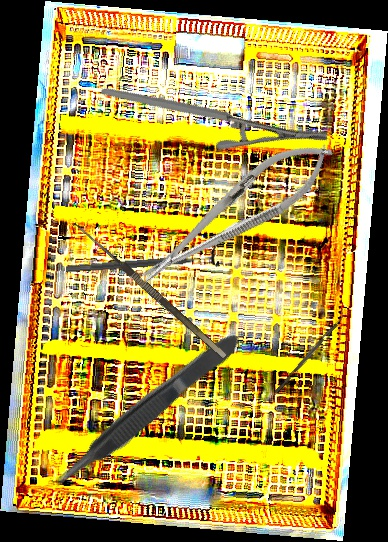Chopper: (270, 308, 349, 395)
Fixation Ring: (65, 243, 220, 282)
Hook Surgical: (64, 218, 228, 368)
Needle Holder: (100, 20, 332, 206), (126, 124, 346, 301)
Tissue Forceps: (44, 327, 248, 496)
